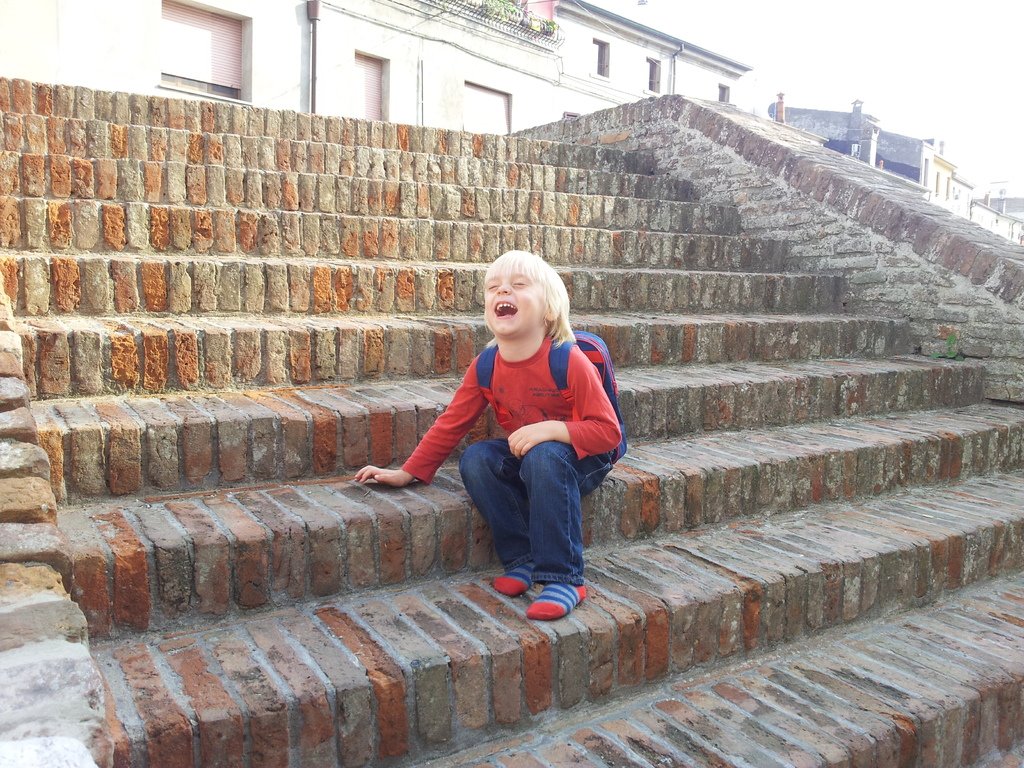Person: (355, 250, 621, 620)
